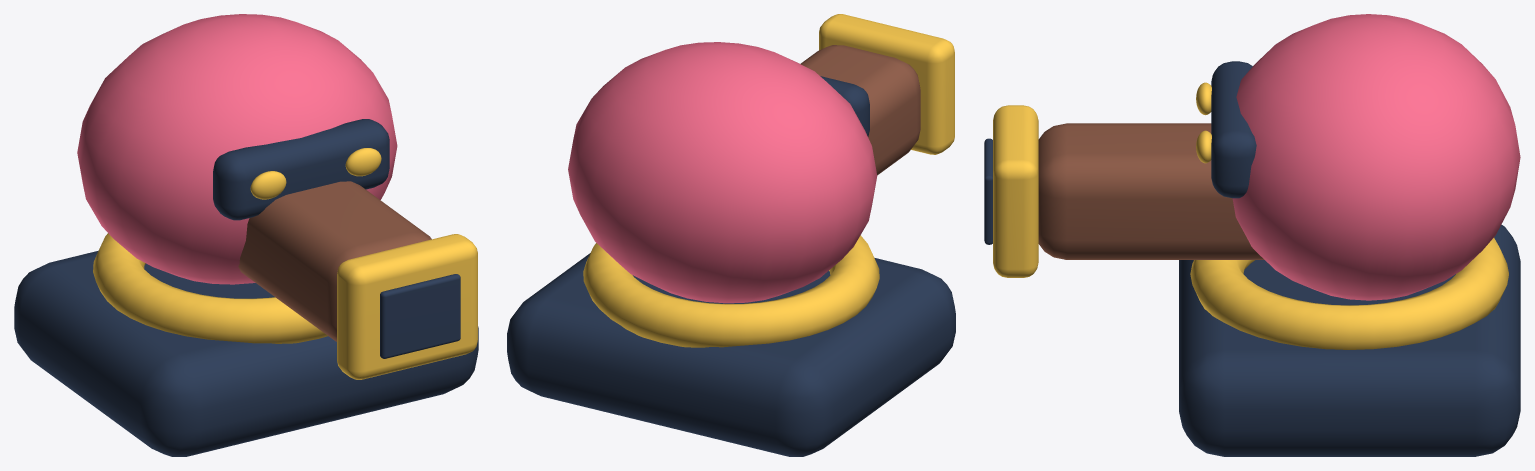
Rendered from cannon.runtime.gltf.
The picture shows the model from 3 angles, left to right: view 1: azimuth 30°, elevation 25°; view 2: azimuth 150°, elevation 25°; view 3: azimuth 270°, elevation 25°; orthographic projection. The views are drawn at different scales.
Visible parts, largest first — view 1: Cannon plinth; view 2: Cannon plinth; view 3: Cannon plinth.
Boxes of the visible parts, x1,y1,x2,y2 form: Cannon plinth: (14,14,478,456); Cannon plinth: (507,14,955,456); Cannon plinth: (984,14,1520,456).
Bounding box in the file's own units: 1.05 × 1.03 × 1.41.
